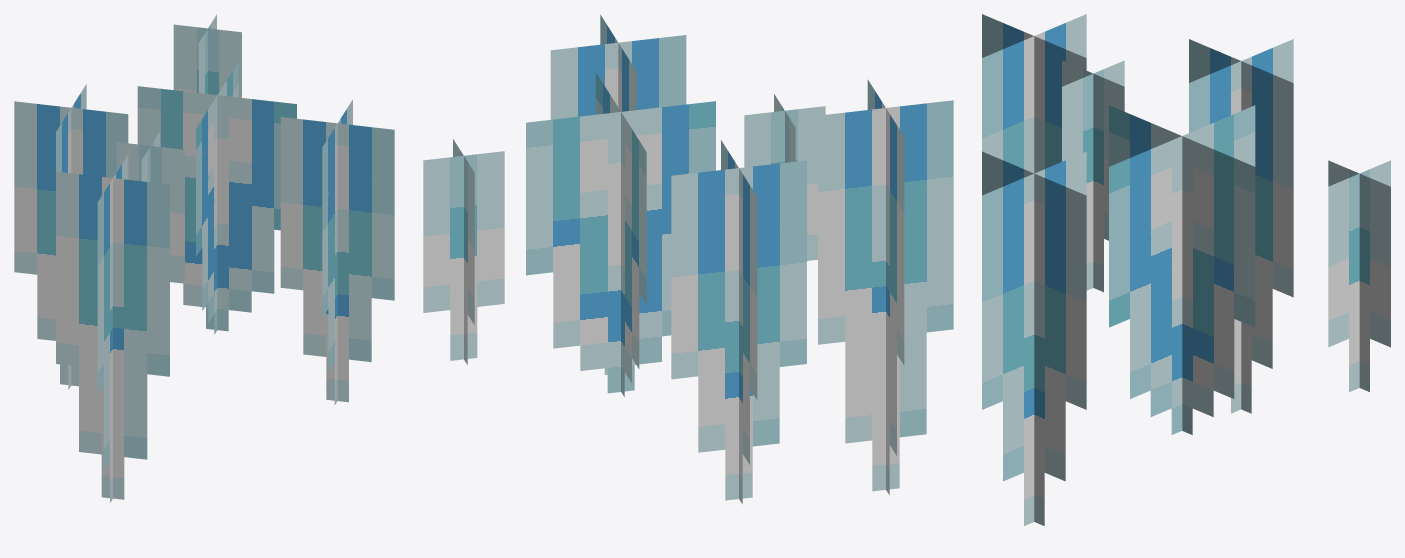
File: icicle-cluster.gltf
3 views of the same model, side by side, from view 1: azimuth 30°, elevation 25°; view 2: azimuth 150°, elevation 25°; view 3: azimuth 270°, elevation 25° (orthographic). The views are drawn at different scales.
Visible parts, largest first — view 1: cube (×11); view 2: cube (×11); view 3: cube (×12).
Part boxes in pixels (box(x1,y1,x2,y2)): cube (×11): box(14, 14, 394, 502); cube (×11): box(423, 14, 953, 504); cube (×12): box(982, 14, 1390, 525).
Size of the model in its own units: 0.9085 by 1 by 0.8643.
Materials: 1 (1 with a texture image).
